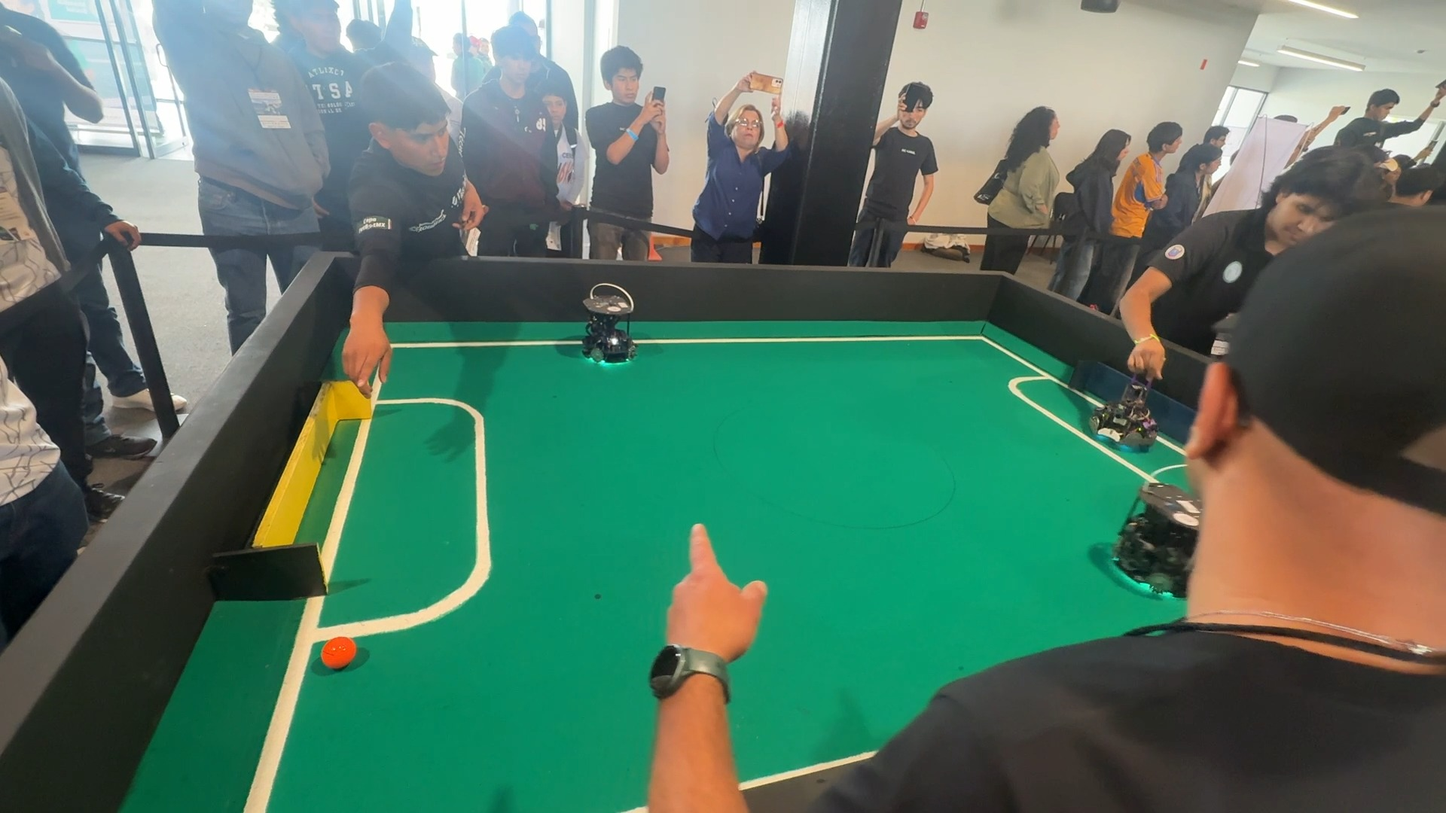Robot: (567, 280, 656, 377)
pelota: (316, 634, 369, 677)
